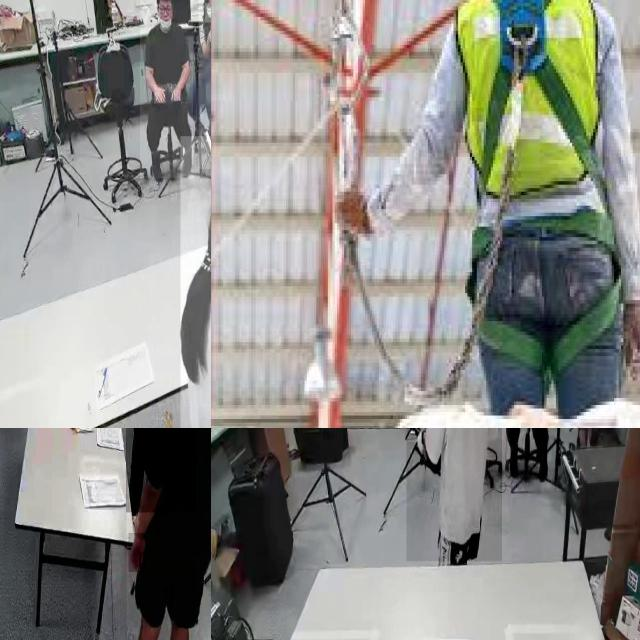Harness: (463, 0, 626, 374)
face_mask: (205, 2, 211, 23)
face_nomask: (157, 0, 172, 24)
hand_noglove: (128, 533, 146, 573), (154, 85, 166, 104), (170, 85, 182, 102), (206, 26, 211, 43)
person: (126, 428, 211, 640), (406, 428, 502, 562), (140, 0, 193, 178), (125, 428, 196, 512), (509, 428, 560, 480), (198, 0, 211, 169)
